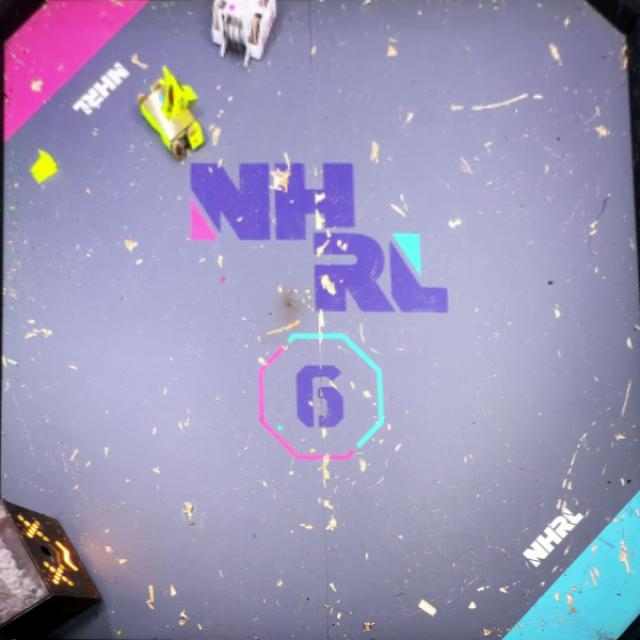housebot: (0, 499, 101, 640)
robot: (137, 65, 205, 160), (212, 0, 278, 67)
